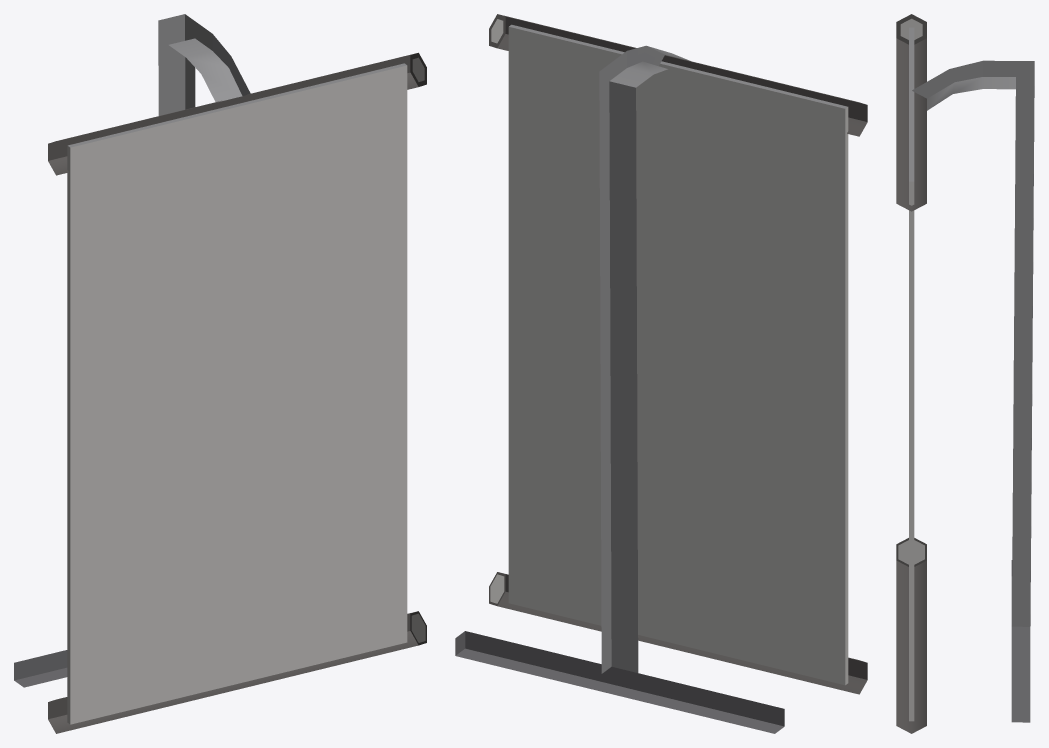
The model's file is QR_Banner.glb.
3 views of the same model, side by side, from view 1: azimuth 30°, elevation 25°; view 2: azimuth 150°, elevation 25°; view 3: azimuth 270°, elevation 25° (orthographic). The views are drawn at different scales.
Visible parts, largest first — view 1: QR_Banner; view 2: QR_Banner; view 3: QR_Banner.
Boxes of the visible parts, left/top/right/bottom form: QR_Banner: left=14, top=14, right=426, bottom=733; QR_Banner: left=455, top=14, right=867, bottom=733; QR_Banner: left=896, top=14, right=1034, bottom=733.
Size of what is drawn, in the model's own units: 1.76 by 2.9 by 0.6228.
1 material, 1 textured.
